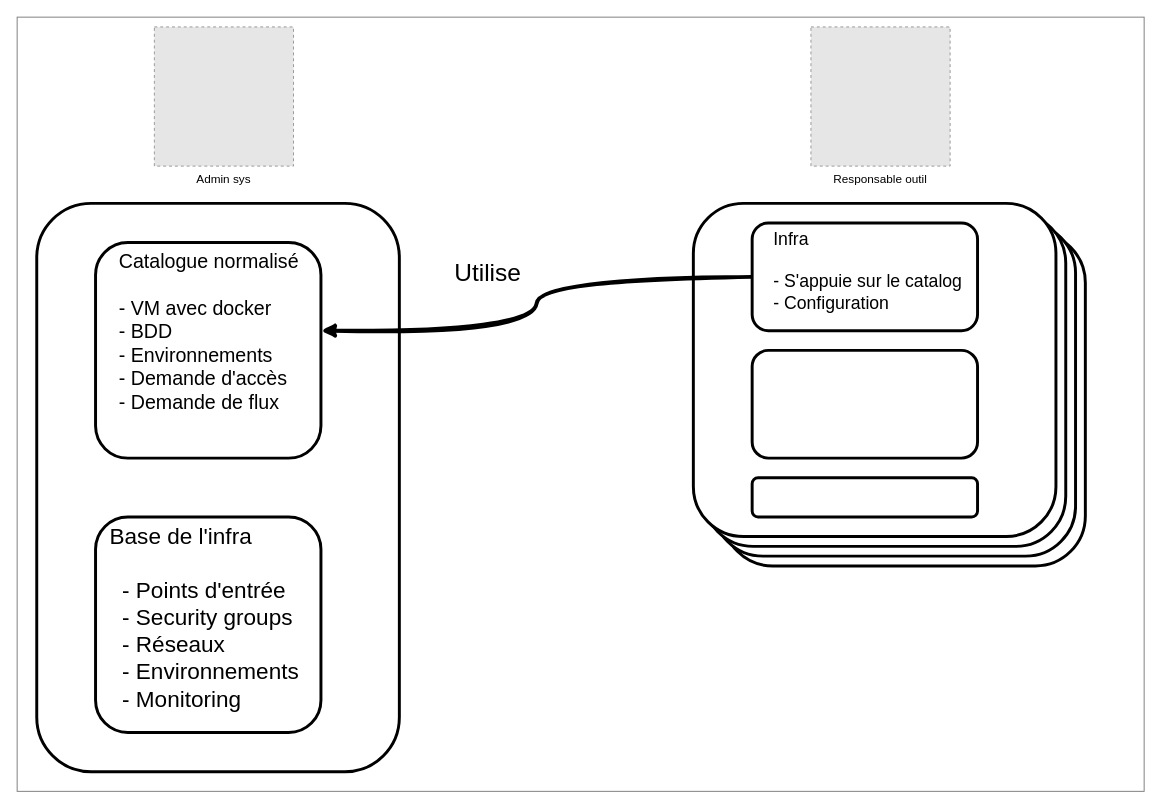
Some shapes in this 1161 by 809 pixel diagram are drawn without their labels. Grey dashed boxes stand in for pictures. Here are the shapes that lost their labels. From the top down, the centre of each, then its label:
At point (864, 403): "Provisionning - Installation - Configuration".
At point (864, 497): "Conf projets".
